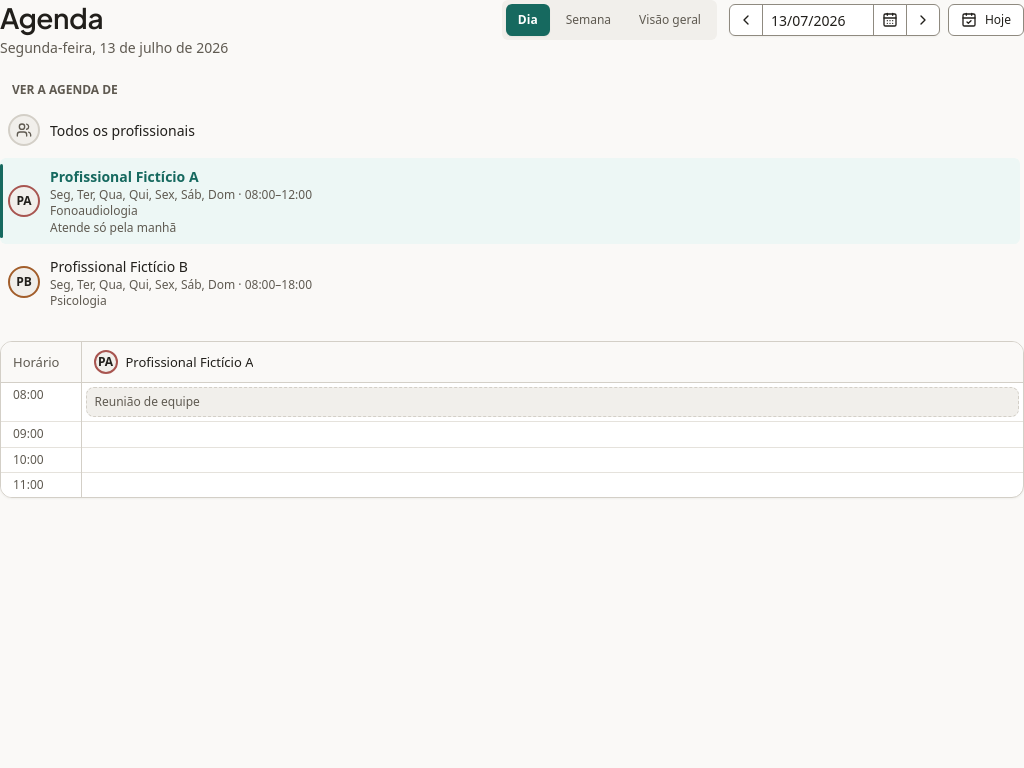
Test: Agenda — as portas que a permissão precisa ter › deve abrir o card de leitura do bloqueio pela faixa ACESSÍVEL (não um div inerte)
expect the table is shown: met, box [1,342,1023,497]
Step 1. Click the button with aria-label "Bloqueio: Reunião de equipe" → (147, 402), box [86,387,1019,417]
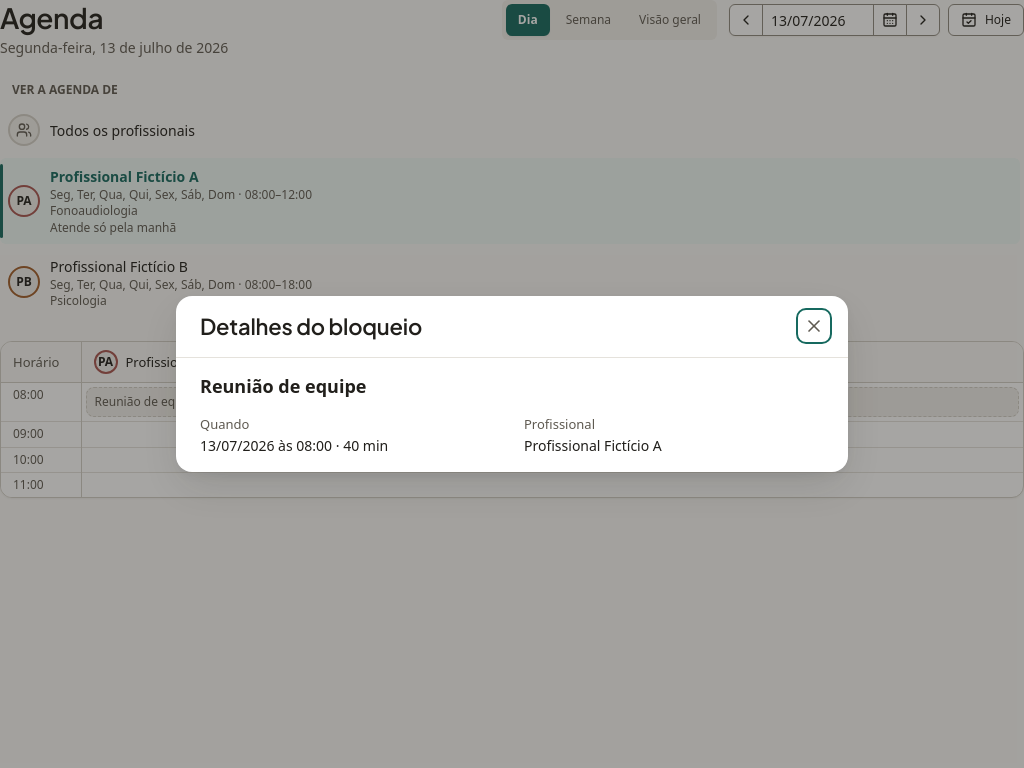
expect the heading "Detalhes do bloqueio" is shown: met, box [200,312,422,341]
expect the text "Reunião de equipe" is shown: met, box [200,374,366,398]
